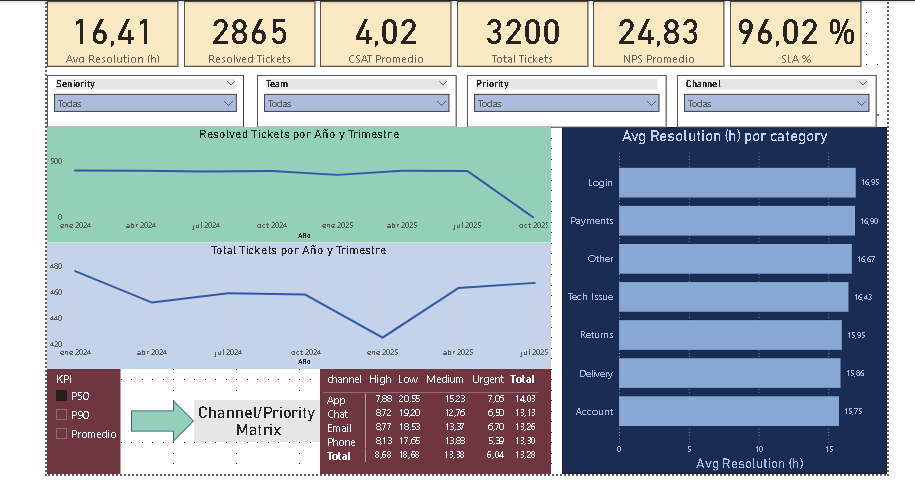

This screenshot's page, from the dashboard's own definition file:
{"tool":"powerbi","page":{"name":"Overview","canvas":[1280,720],"ordinal":0},"visuals":[{"type":"card","fields":{"Values":["Medidas(DAX).Avg Resolution (h)"]},"box":[0,0,200,100],"z":0},{"type":"card","fields":{"Values":["Medidas(DAX).CSAT Promedio"]},"box":[416,0,200,100],"z":1000},{"type":"card","fields":{"Values":["Medidas(DAX).NPS Promedio"]},"box":[832,0,200,100],"z":2000},{"type":"card","fields":{"Values":["Medidas(DAX).Resolved Tickets"]},"box":[208,0,200,100],"z":3000},{"type":"card","fields":{"Values":["Medidas(DAX).SLA %"]},"box":[1040,0,200,100],"z":4000},{"type":"card","fields":{"Values":["Medidas(DAX).Total Tickets"]},"box":[624,0,200,100],"z":5000},{"type":"pivotTable","fields":{"Rows":["tickets.channel"],"Columns":["tickets.priority"],"Values":["Medidas(DAX).KPI Value"]},"box":[416,560,352,160],"z":7000},{"type":"barChart","fields":{"Category":["tickets.category"],"Y":["Medidas(DAX).Avg Resolution (h)"]},"box":[784,192,496,528],"z":8000},{"type":"slicer","fields":{"Values":["tickets.priority"]},"box":[640,112,304,80],"z":9000},{"type":"slicer","fields":{"Values":["tickets.channel"]},"box":[960,112,304,80],"z":10000},{"type":"slicer","fields":{"Values":["agents.team"]},"box":[320,112,304,80],"z":11000},{"type":"slicer","fields":{"Values":["agents.seniority"]},"box":[0,112,300,80],"z":12000},{"type":"lineChart","fields":{"Y":["Medidas(DAX).Total Tickets"],"Category":["tickets.created_at.Variación.Jerarquía de fechas.Año","tickets.created_at.Variación.Jerarquía de fechas.Trimestre"]},"box":[0,368,768,192],"z":12001},{"type":"lineChart","fields":{"Y":["Medidas(DAX).Resolved Tickets"],"Category":["tickets.resolved_at.Variación.Jerarquía de fechas.Año","tickets.resolved_at.Variación.Jerarquía de fechas.Trimestre"]},"box":[0,192,768,176],"z":12002},{"type":"slicer","fields":{"Values":["ParametroKPI.KPI"]},"box":[0,560,112,160],"z":12003},{"type":"shape","box":[128,608,96,64],"z":12004},{"type":"textbox","box":[224,608,192,64],"z":12005}]}

Visuals, with their boxes in screenshot pixels (x1, y1, x2, y2):
card - Medidas(DAX).Avg Resolution (h): left=45, top=0, right=176, bottom=66
card - Medidas(DAX).CSAT Promedio: left=318, top=0, right=449, bottom=66
card - Medidas(DAX).NPS Promedio: left=591, top=0, right=722, bottom=66
card - Medidas(DAX).Resolved Tickets: left=182, top=0, right=313, bottom=66
card - Medidas(DAX).SLA %: left=728, top=0, right=859, bottom=66
card - Medidas(DAX).Total Tickets: left=455, top=0, right=586, bottom=66
pivotTable - tickets.channel x tickets.priority: left=318, top=367, right=549, bottom=472
barChart - tickets.category x Medidas(DAX).Avg Resolution (h): left=560, top=126, right=885, bottom=472
slicer - tickets.priority: left=465, top=73, right=665, bottom=126
slicer - tickets.channel: left=675, top=73, right=874, bottom=126
slicer - agents.team: left=255, top=73, right=455, bottom=126
slicer - agents.seniority: left=45, top=73, right=242, bottom=126
lineChart - Medidas(DAX).Total Tickets x tickets.created_at.Variación.Jerarquía de fechas.Año: left=45, top=241, right=549, bottom=367
lineChart - Medidas(DAX).Resolved Tickets x tickets.resolved_at.Variación.Jerarquía de fechas.Año: left=45, top=126, right=549, bottom=241
slicer - ParametroKPI.KPI: left=45, top=367, right=119, bottom=472
shape: left=129, top=399, right=192, bottom=441
textbox: left=192, top=399, right=318, bottom=441
